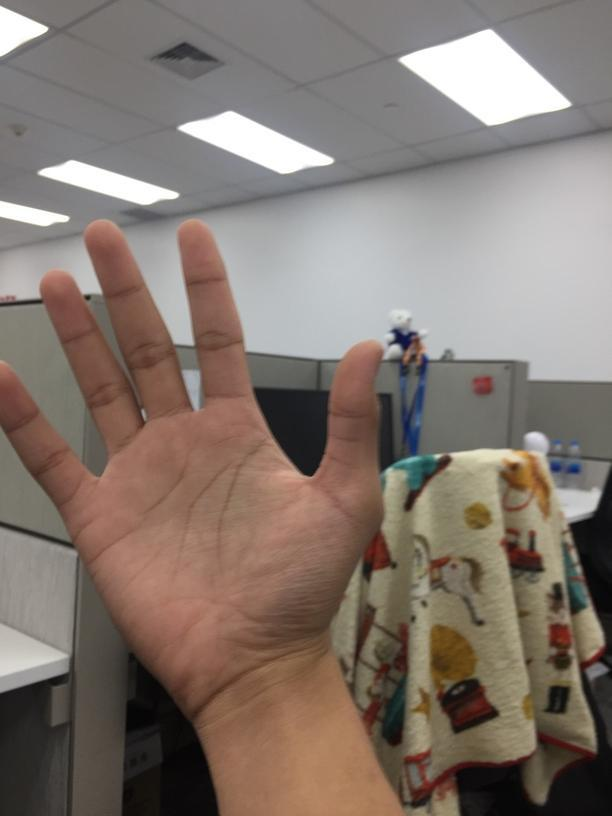hand: (0, 220, 388, 694)
